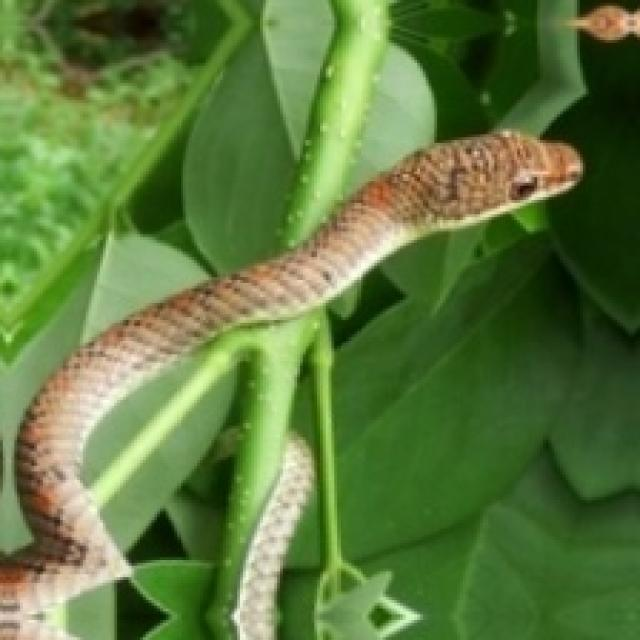paradise tree snake: (0, 131, 580, 637), (231, 434, 311, 637)
